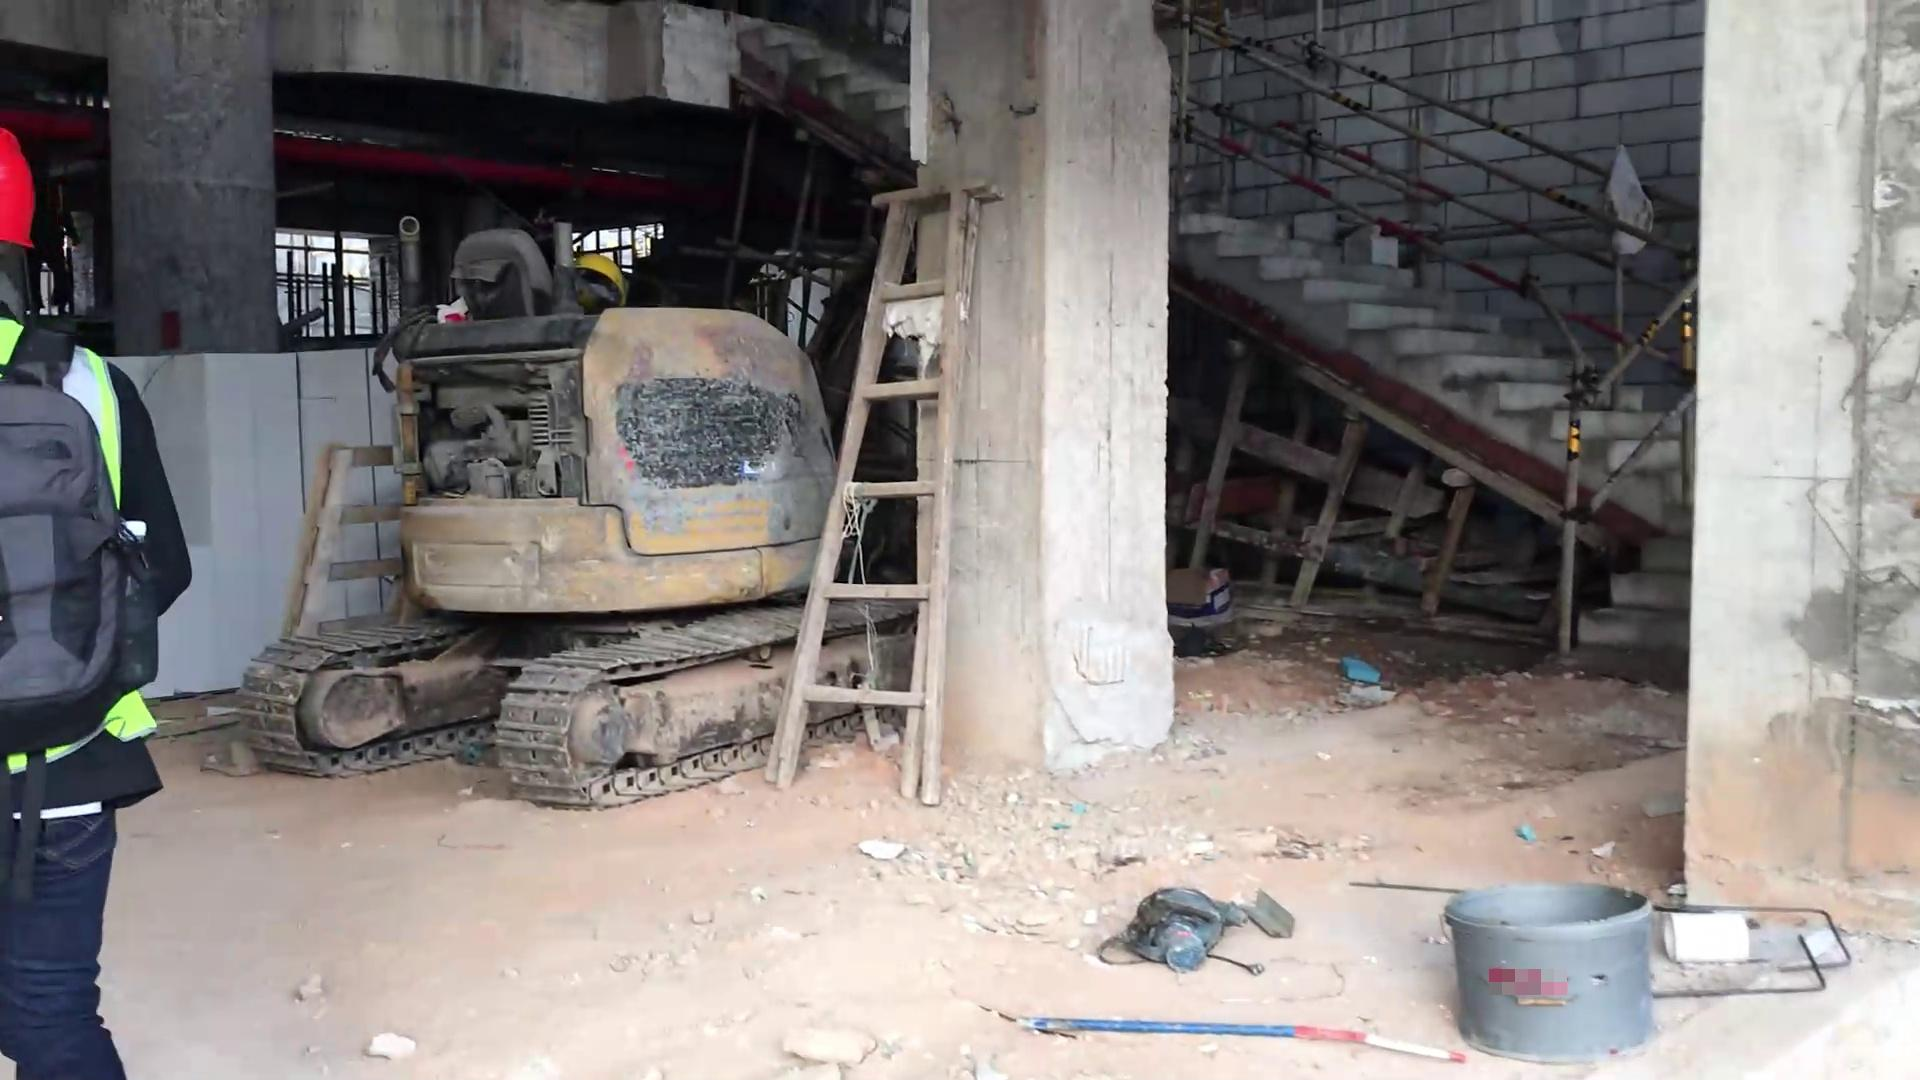helmet: (1, 123, 51, 253)
person: (1, 102, 138, 1072)
vest: (1, 301, 158, 793)
